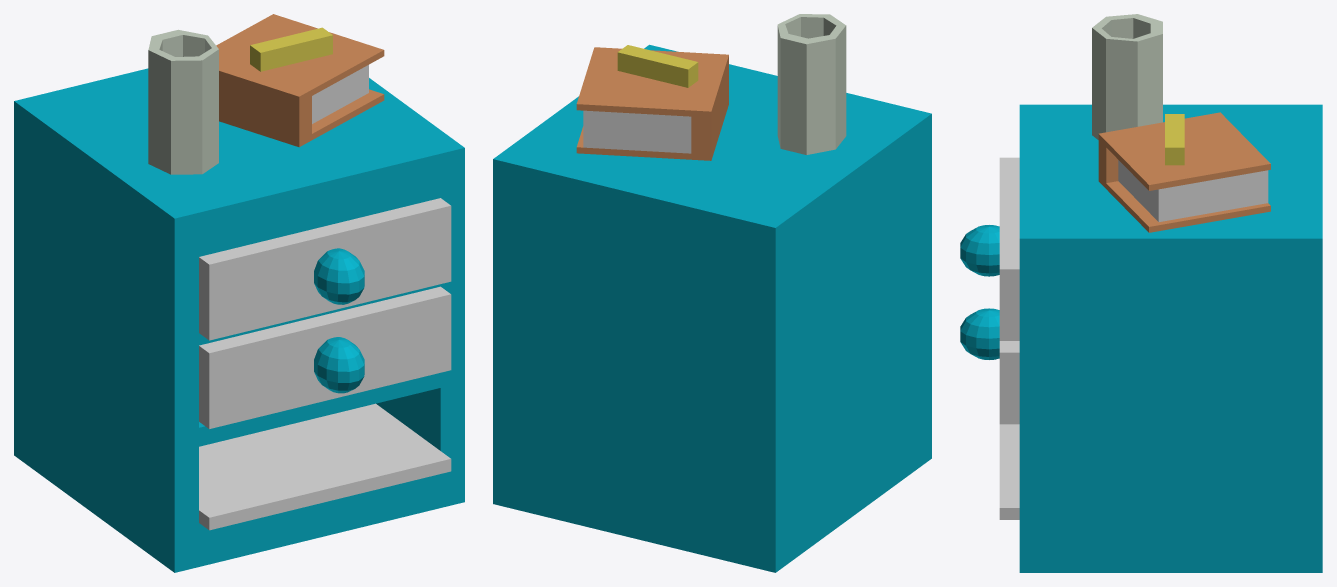
The model's file is Terrific Jofo.glb.
The picture shows the model from 3 angles, left to right: view 1: azimuth 30°, elevation 25°; view 2: azimuth 150°, elevation 25°; view 3: azimuth 270°, elevation 25°; orthographic projection. The views are drawn at different scales.
Visible parts, largest first — view 1: Mesh_Mesh_head_geo.001_lambert2SG.001; view 2: Mesh_Mesh_head_geo.001_lambert2SG.001; view 3: Mesh_Mesh_head_geo.001_lambert2SG.001.
Part boxes in pixels (<box>): Mesh_Mesh_head_geo.001_lambert2SG.001: <box>14,14,464,572</box>; Mesh_Mesh_head_geo.001_lambert2SG.001: <box>493,14,931,572</box>; Mesh_Mesh_head_geo.001_lambert2SG.001: <box>960,14,1322,572</box>.
Size of the model in its own units: 48 by 74 by 55.
